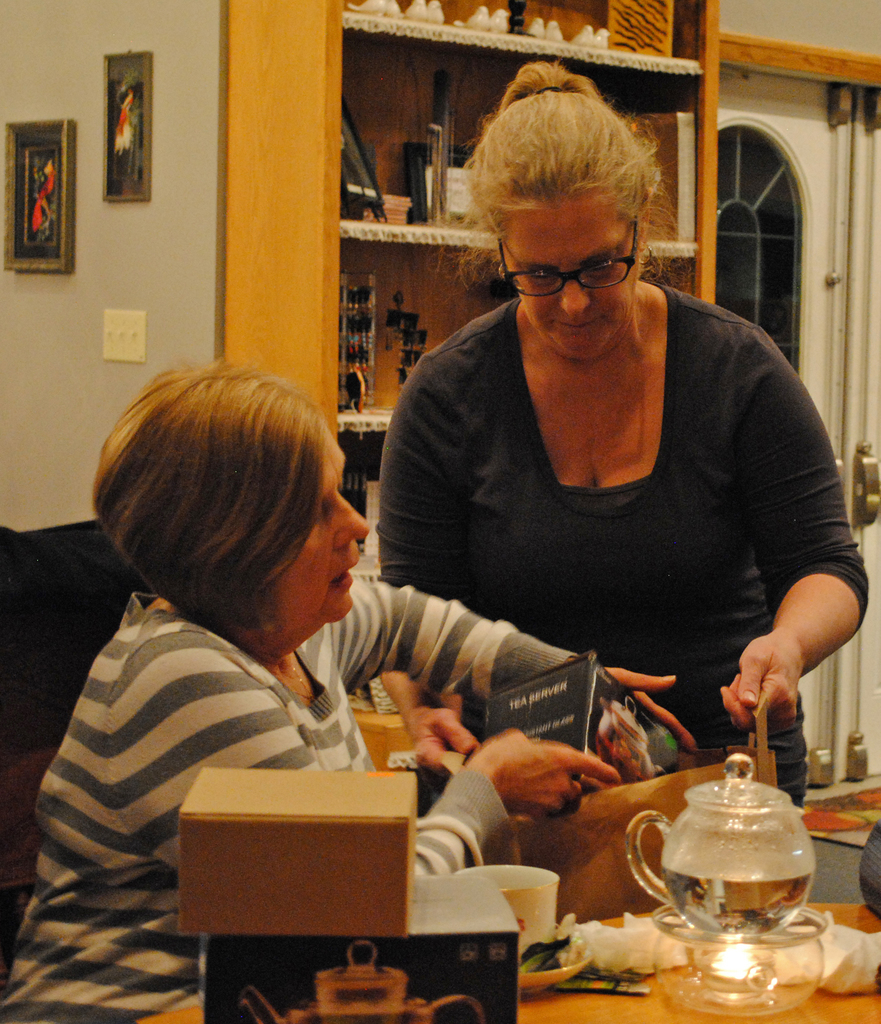Person: (1, 362, 695, 1023), (377, 58, 869, 816)
